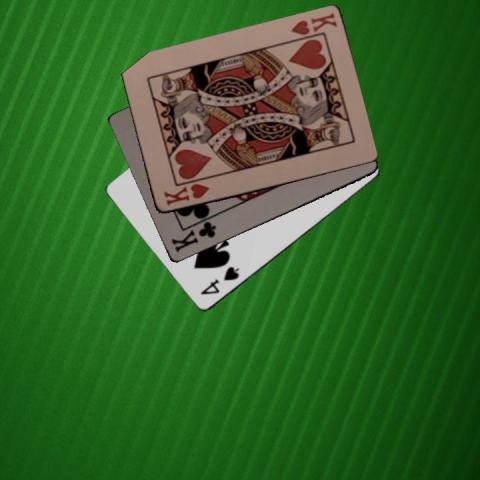4s: (198, 263, 241, 297)
Kc: (168, 219, 218, 254)
Kh: (287, 10, 339, 37), (161, 181, 210, 208)
